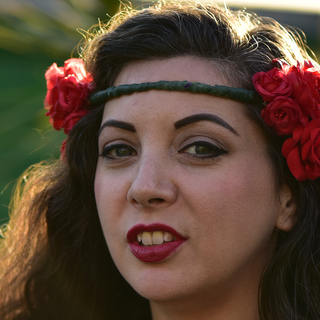eye: (176, 136, 231, 163), (99, 138, 140, 163)
